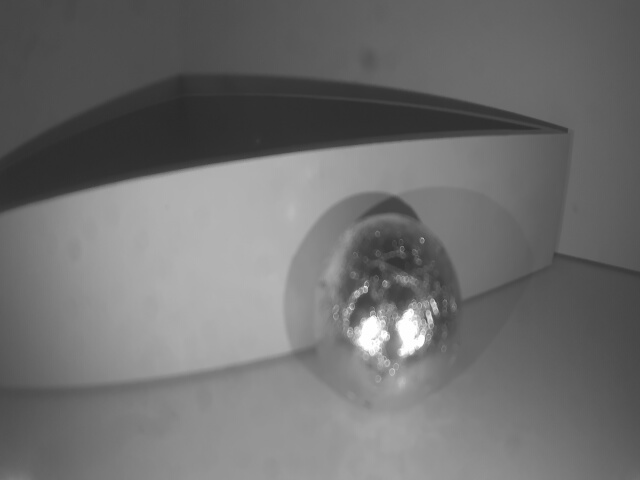Live: (314, 217, 460, 410)
Red: (0, 133, 571, 397)
